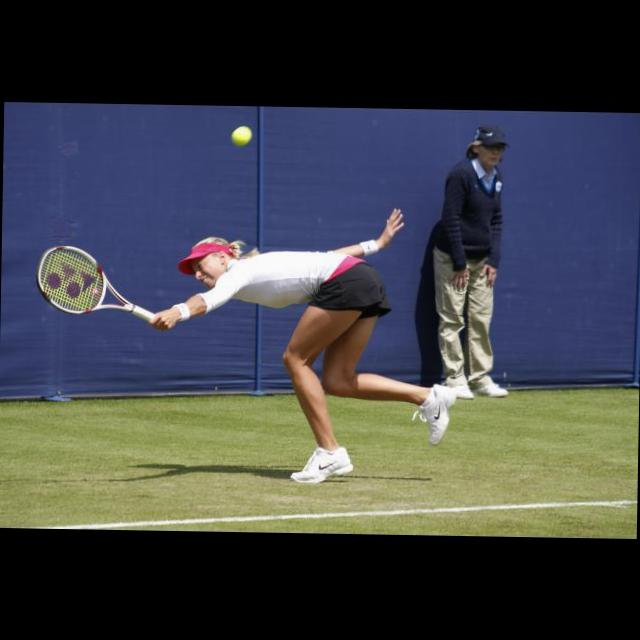Tennis Ball: (231, 124, 252, 146)
